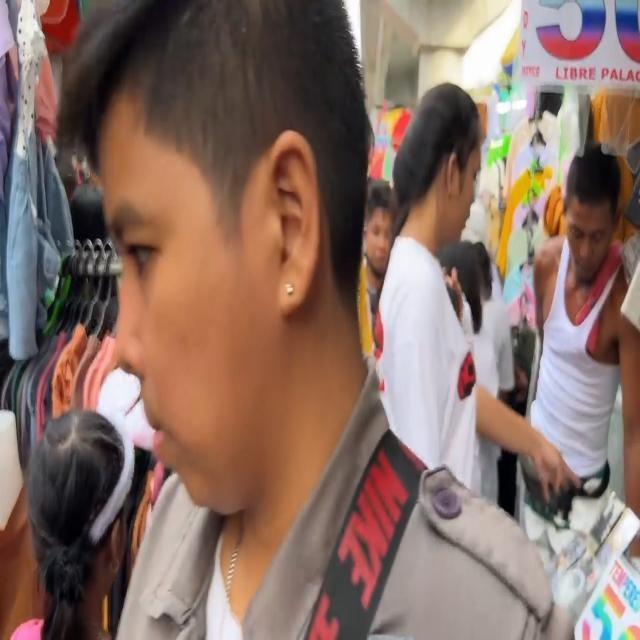hairnet: (366, 212, 394, 278)
